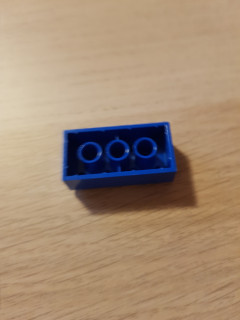2x4 blue: (59, 122, 179, 192)
